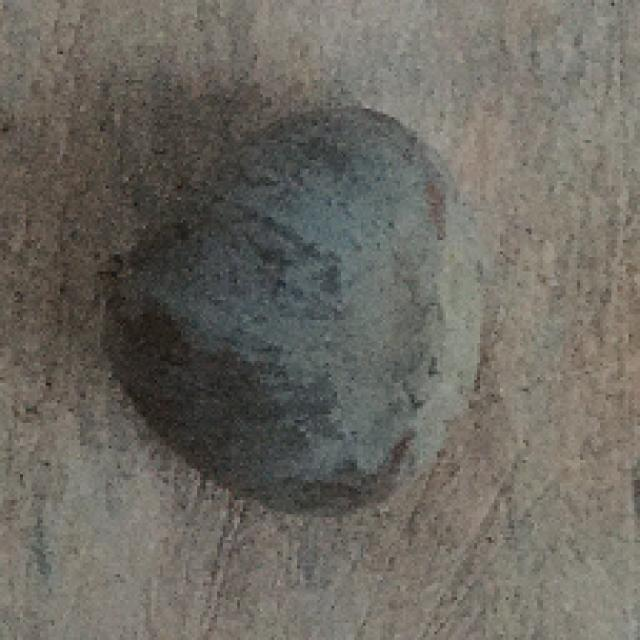DamagedHazelnut: (103, 110, 484, 511)
